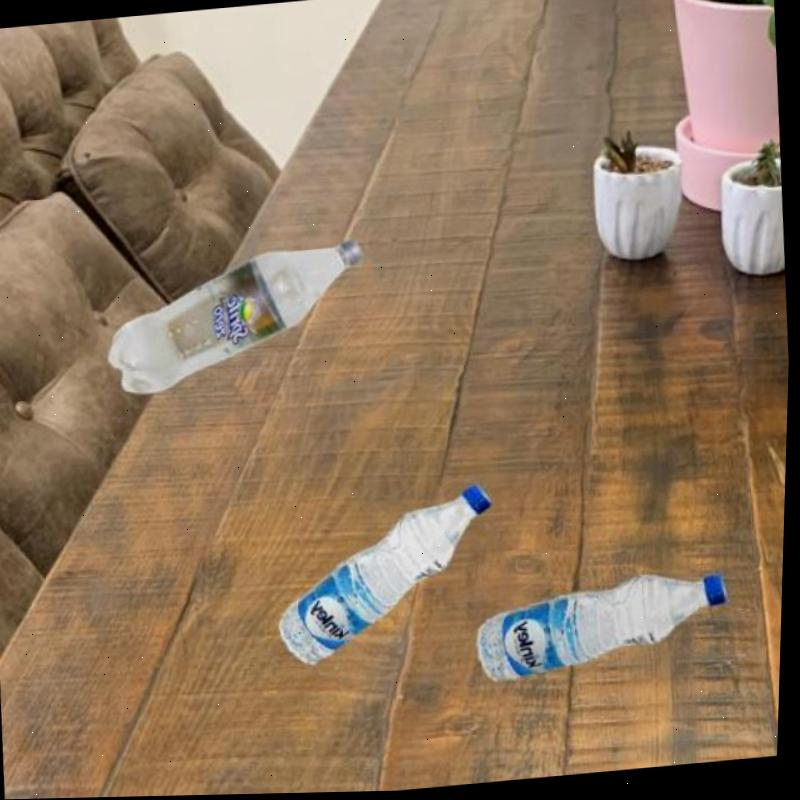botella: (271, 485, 504, 670), (102, 239, 372, 398), (474, 571, 733, 688)
